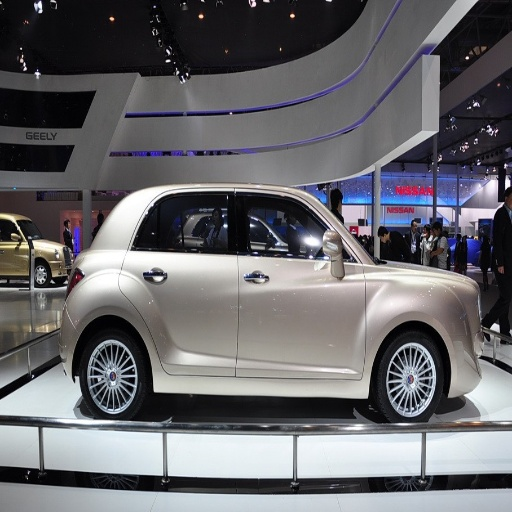trunk: (441, 305, 475, 358)
